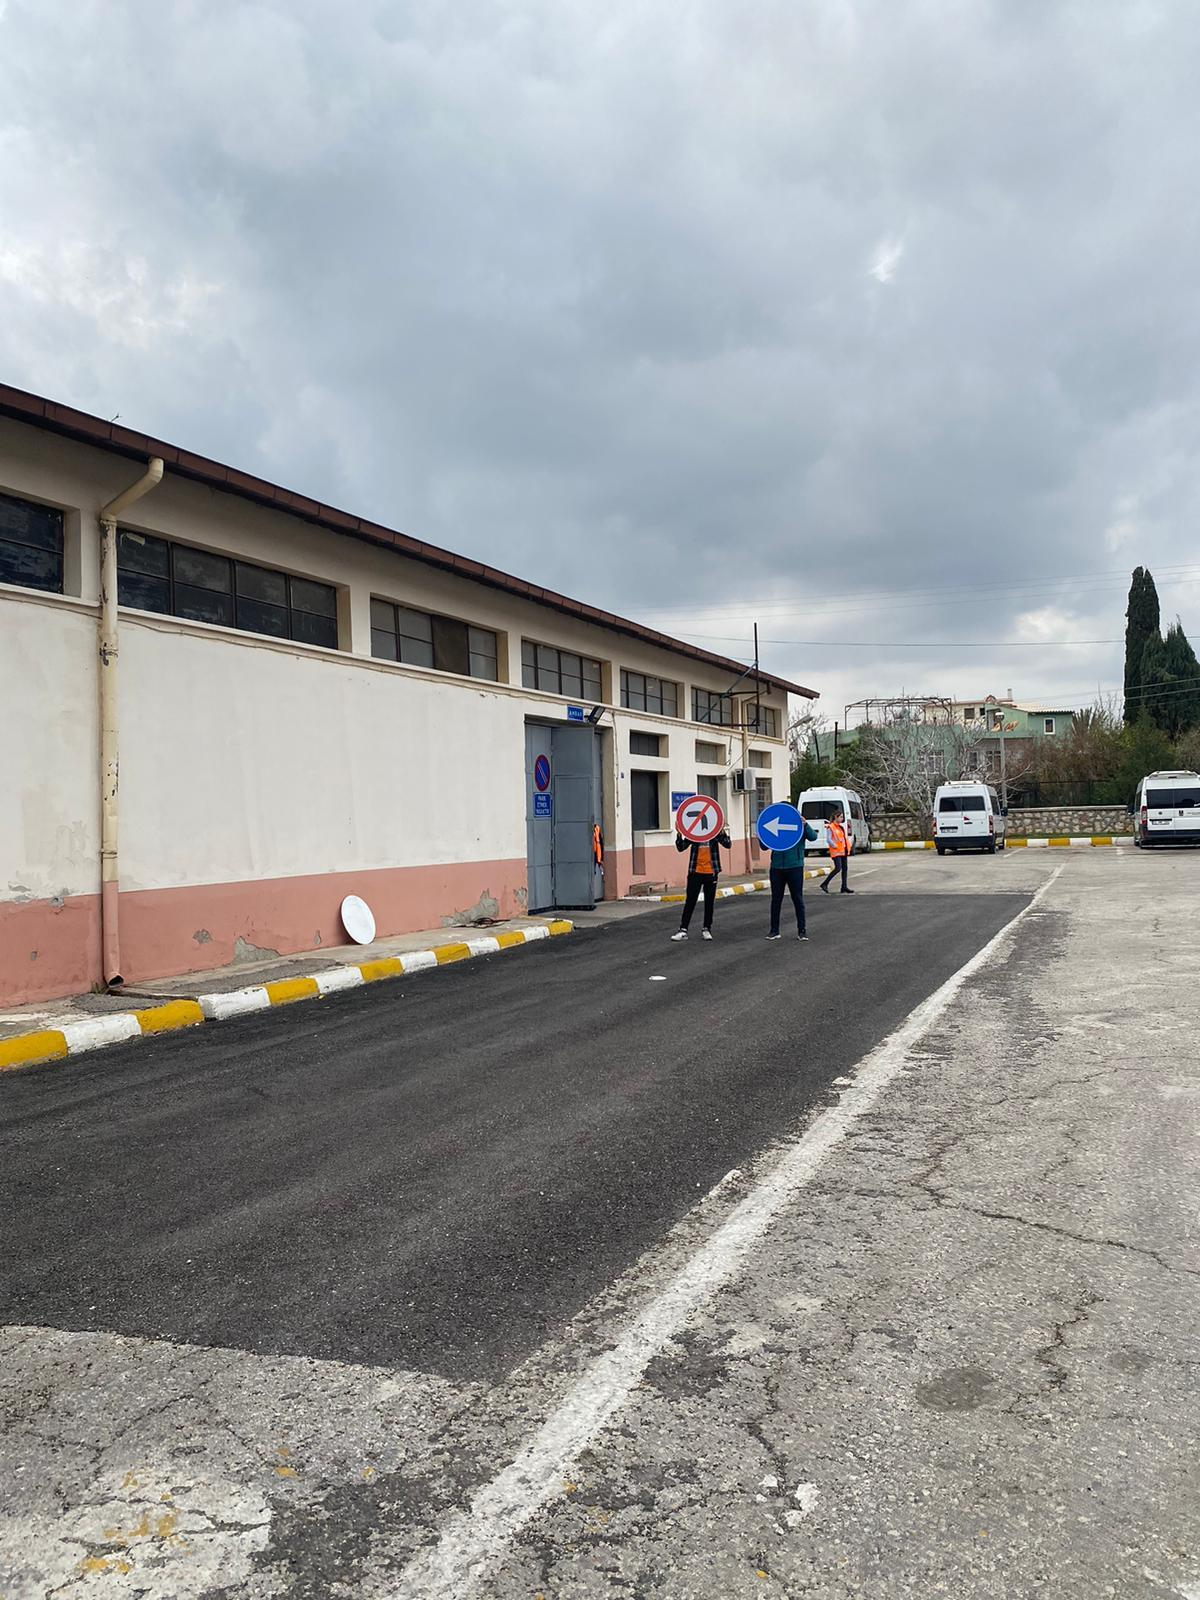leftturnsareforbidden: (674, 796, 727, 844)
turnleft: (758, 804, 804, 852)
